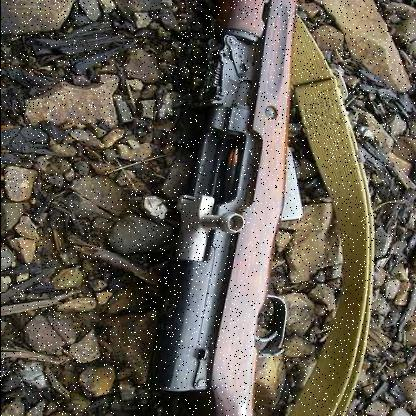rifle: (147, 0, 324, 415)
